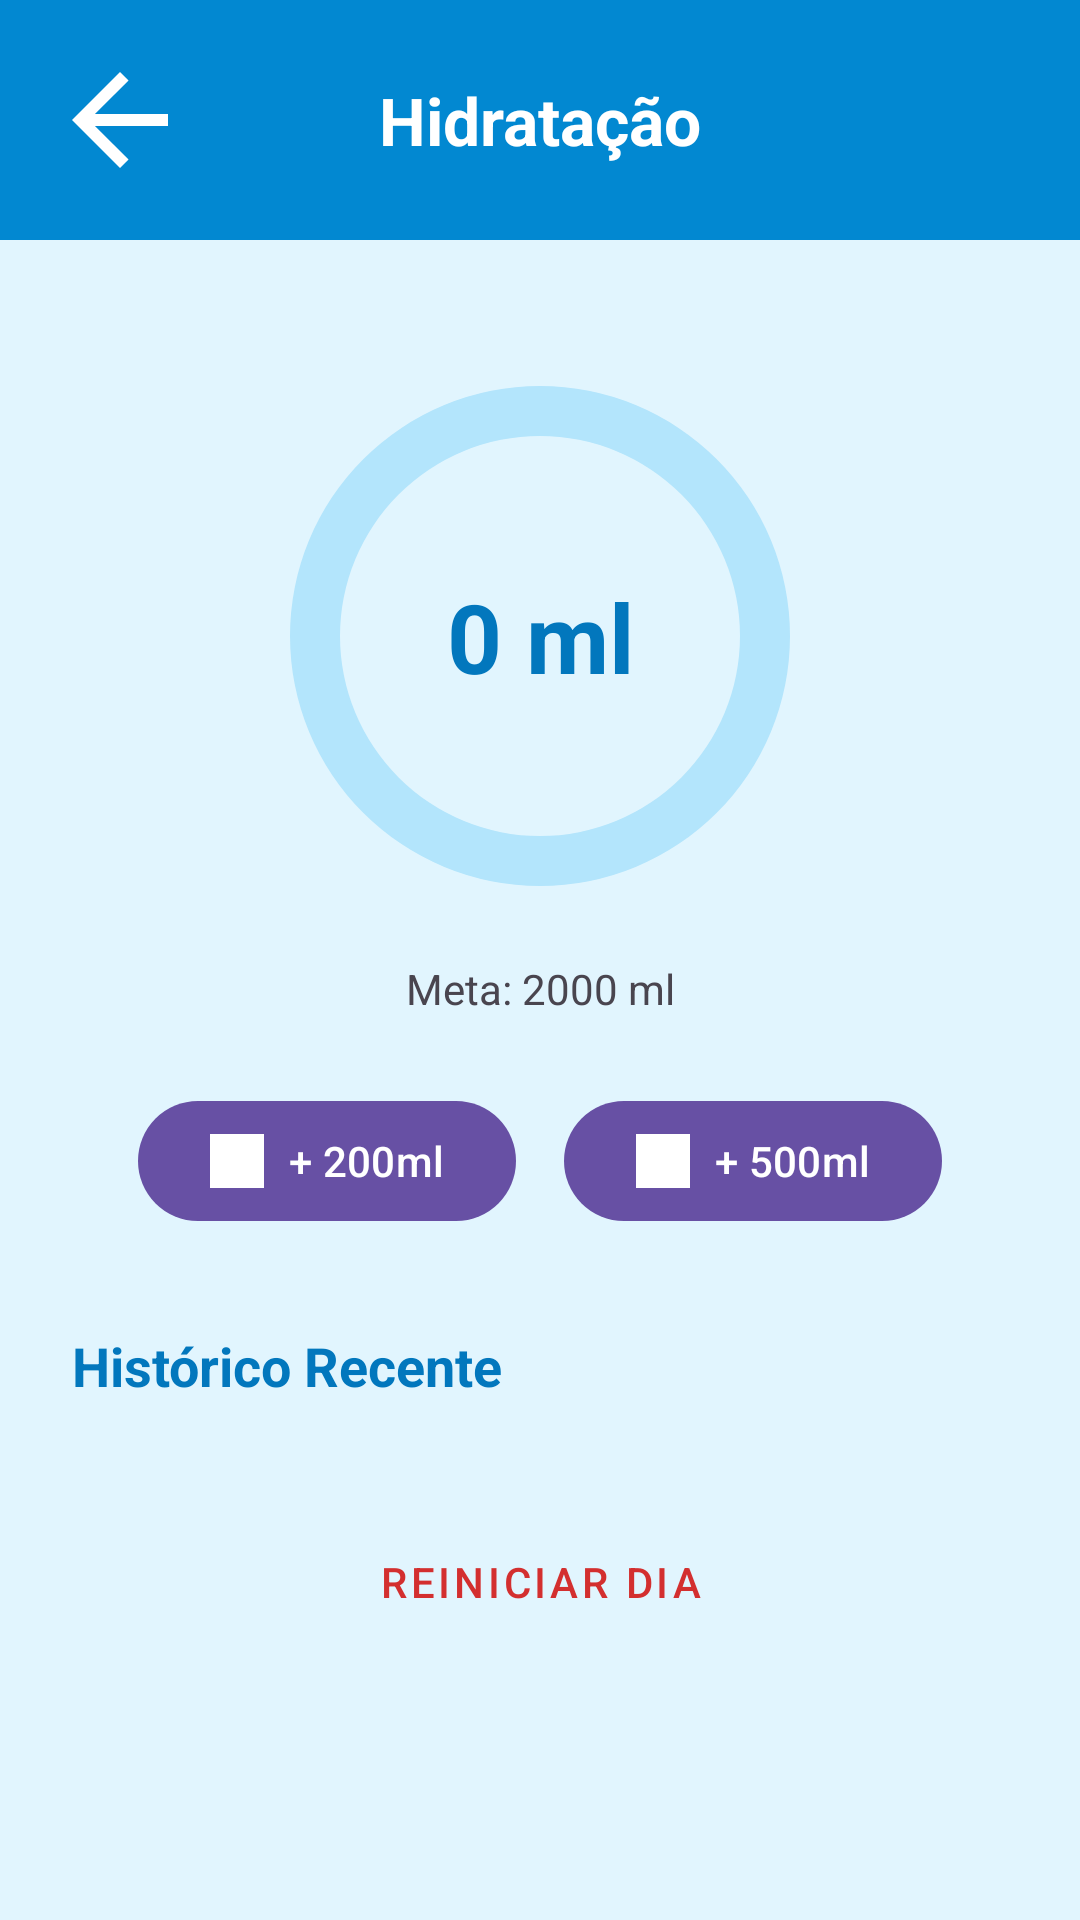

Named icons in this screenshot (1080 x 1920) and their centers, (x,y):
arrow back: (120,120)
